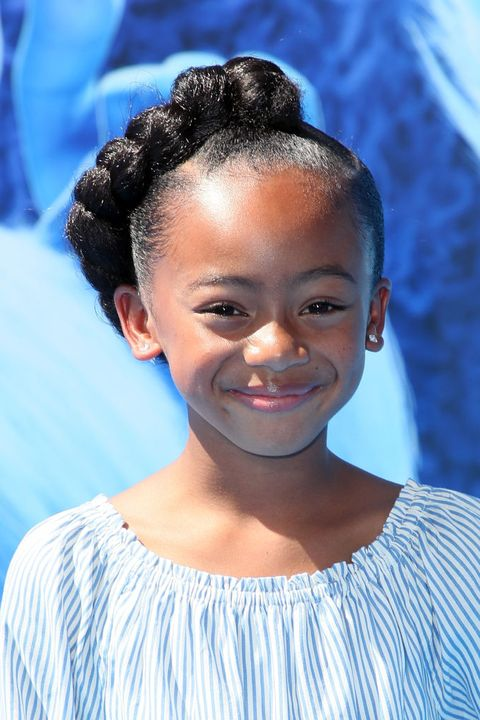person: (72, 56, 394, 476)
